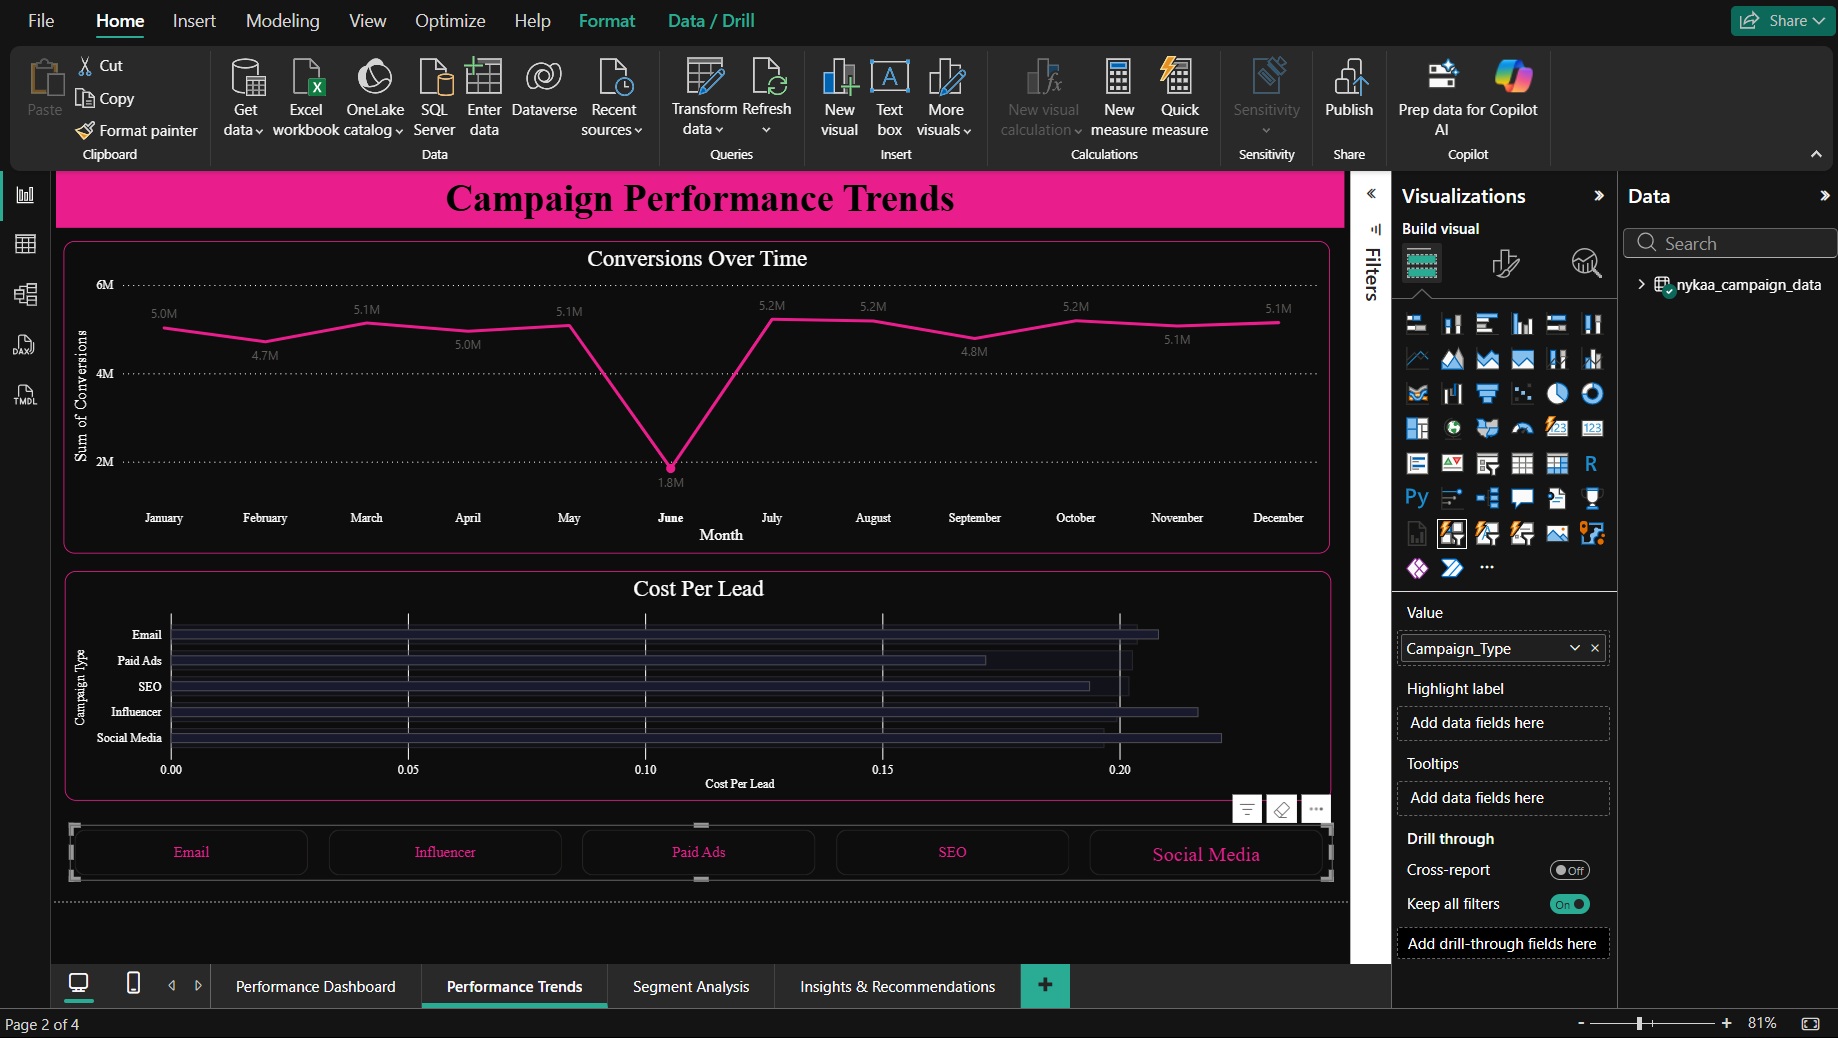

This screenshot's page, from the dashboard's own definition file:
{"tool":"powerbi","page":{"name":"Performance Trends","canvas":[1280,720],"ordinal":1},"visuals":[{"type":"lineChart","title":"Conversions Over Time","fields":{"Y":["Sum(nykaa_campaign_data.Conversions)"],"Category":["nykaa_campaign_data.Date.Variation.Date Hierarchy.Month"]},"box":[12.3,69,1247.7,307.9],"z":0},{"type":"textbox","box":[5.3,0,1269.4,55.8],"z":1000},{"type":"clusteredBarChart","title":"Cost Per Lead","fields":{"Category":["nykaa_campaign_data.Campaign_Type"],"Y":["nykaa_campaign_data.Cost Per Lead"]},"box":[13.5,394.2,1247.7,226.6],"z":2000},{"type":"advancedSlicerVisual","title":"Campaign Type","fields":{"Values":["nykaa_campaign_data.Campaign_Type"]},"box":[18.5,644.2,1244,55.4],"z":3000}]}

Visuals, with their boxes on the page's 1280x720 design canvas (x1, y1, x2, y2). These are canvas units, not pixel positions in the 1838x1038 screenshot, which may show the page scaled, cropped or inside an application window:
"Conversions Over Time" lineChart: region(12, 69, 1260, 377)
textbox: region(5, 0, 1275, 56)
"Cost Per Lead" clusteredBarChart: region(14, 394, 1261, 621)
"Campaign Type" advancedSlicerVisual: region(18, 644, 1262, 700)
